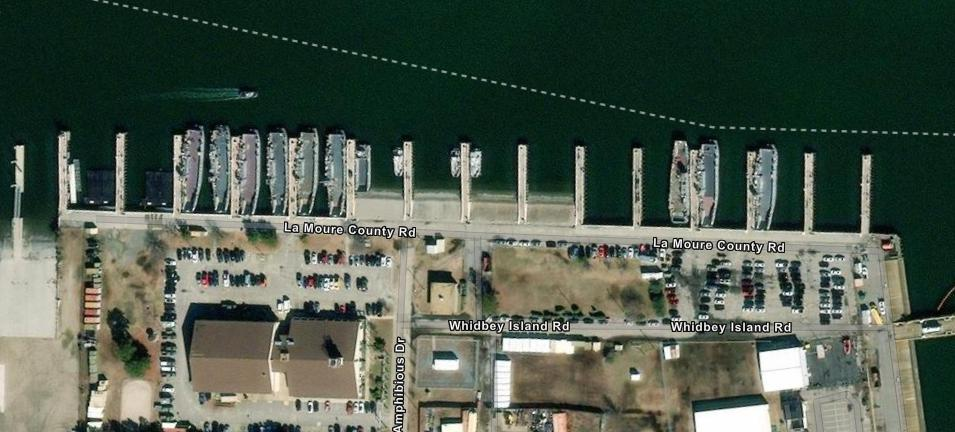barge: (322, 125, 354, 223), (177, 123, 207, 219), (754, 140, 783, 233), (209, 121, 236, 219), (295, 123, 321, 218), (266, 125, 291, 220), (237, 127, 263, 218), (701, 135, 722, 231), (355, 142, 374, 199)
